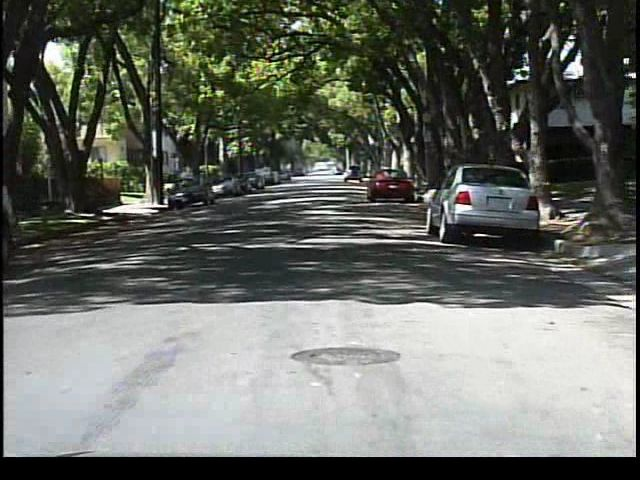person: (176, 169, 195, 201)
